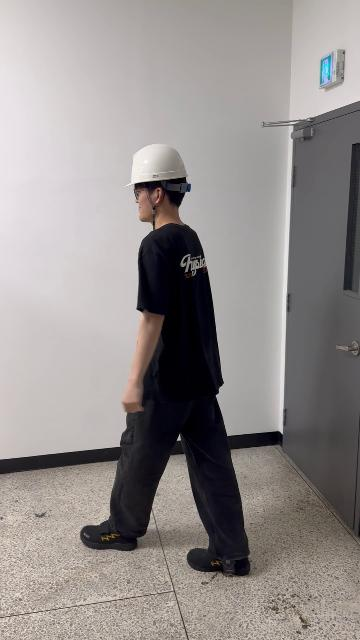helmet_worn: (123, 143, 191, 189)
shoe_worn: (80, 521, 138, 550), (188, 548, 250, 575)
vest_not_worn: (134, 229, 220, 407)
